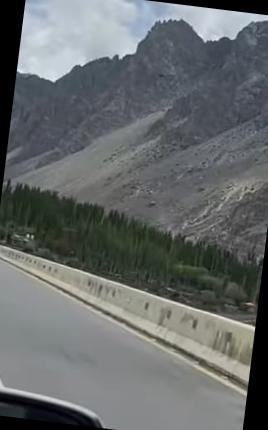sharp_turn: (0, 212, 94, 422)
